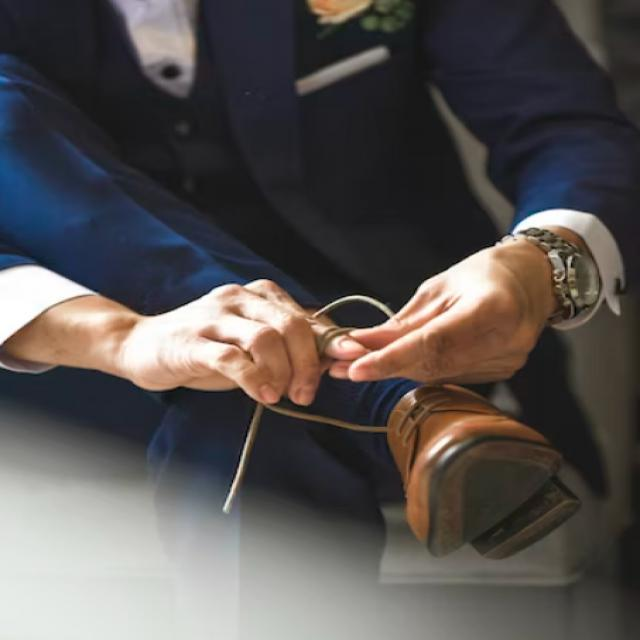Watch: (504, 218, 600, 325)
